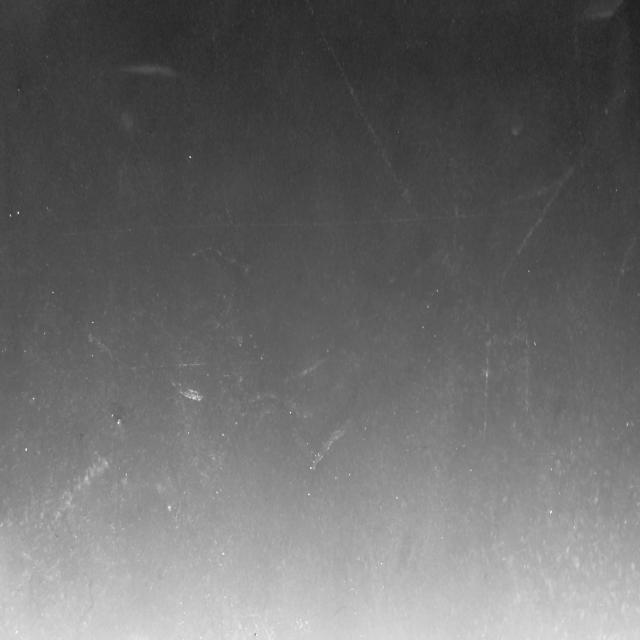beta: (310, 14, 446, 258), (496, 75, 632, 291), (36, 454, 113, 550), (414, 329, 482, 392), (175, 257, 193, 431), (608, 225, 640, 321), (304, 312, 384, 349), (281, 354, 334, 388), (190, 248, 252, 276), (483, 317, 491, 445)
